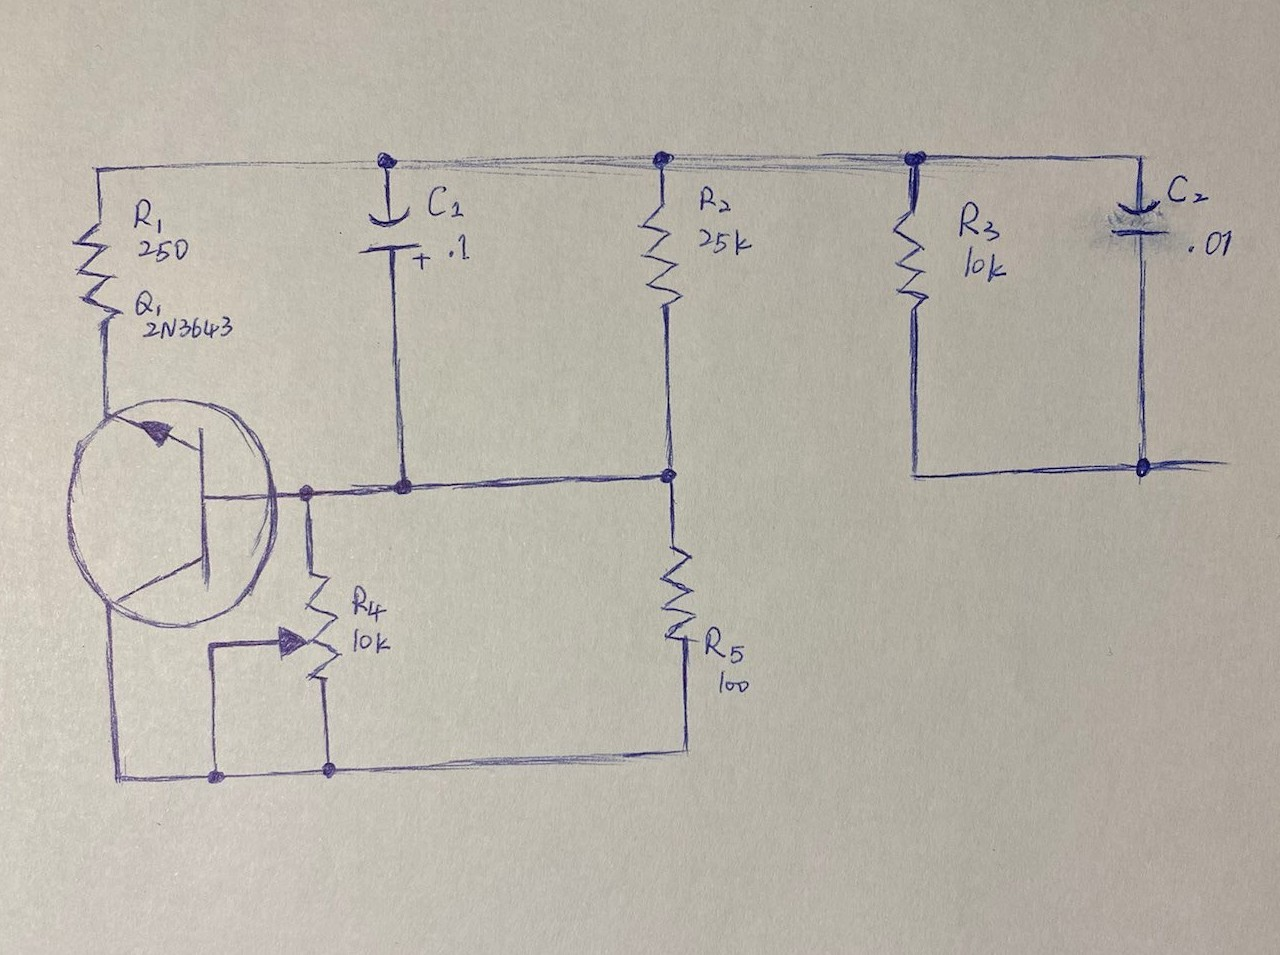capacitor.polarized: (356, 205, 433, 271)
capacitor.unpolarized: (1109, 197, 1170, 240)
junction: (896, 135, 942, 180), (647, 451, 691, 492), (643, 138, 683, 181), (662, 728, 704, 768), (194, 755, 233, 798), (387, 464, 426, 506), (368, 142, 406, 180), (307, 752, 347, 786), (898, 456, 933, 491), (105, 761, 139, 794), (1121, 142, 1156, 174), (1125, 448, 1156, 484), (290, 477, 321, 508), (85, 153, 114, 183), (200, 631, 225, 662)
resistor: (67, 216, 126, 335), (635, 200, 685, 318), (891, 204, 936, 318), (658, 543, 700, 655)
resistor.adjustable: (275, 570, 344, 683)
terminal: (1187, 443, 1250, 483)
text: (694, 223, 758, 261), (141, 317, 238, 342), (958, 195, 1003, 245), (959, 245, 1011, 287), (425, 180, 469, 223), (135, 235, 197, 266), (703, 622, 745, 665), (347, 580, 391, 621), (1185, 228, 1235, 261), (130, 192, 169, 235), (348, 624, 394, 658), (1166, 170, 1209, 206), (696, 182, 735, 218), (442, 230, 476, 265), (717, 668, 754, 700), (131, 289, 167, 318)
transistor: (61, 396, 279, 627)
